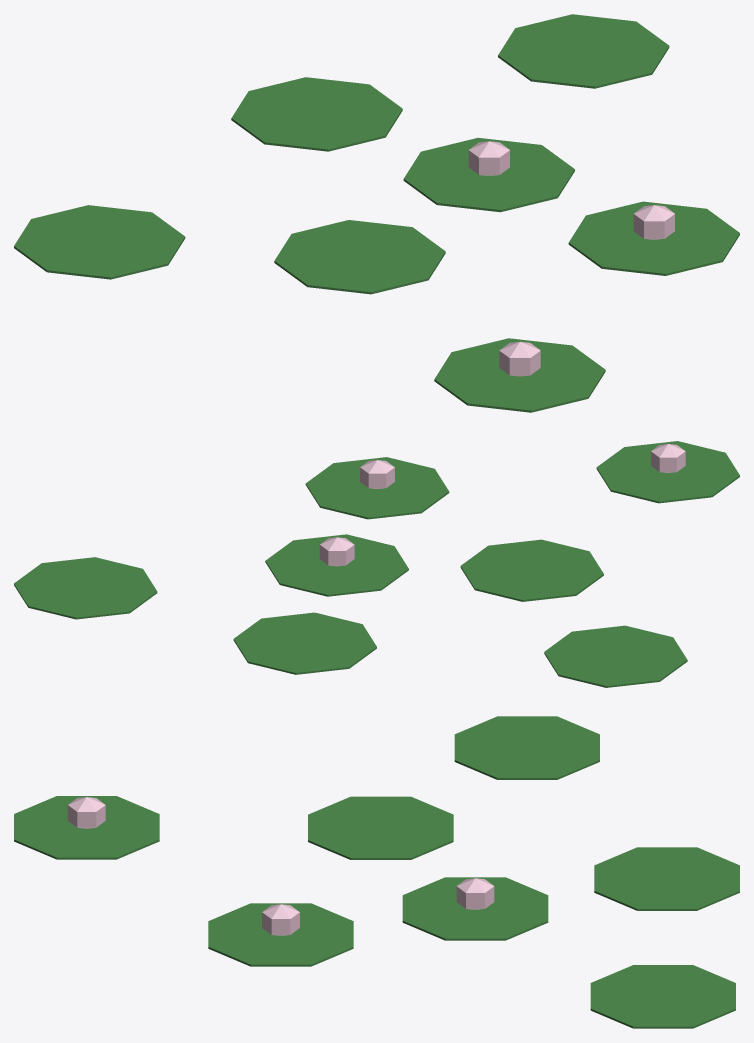
The model's file is lily_pads.glb.
3 renders of one model, top to bottom at view 1: azimuth 30°, elevation 25°; view 2: azimuth 150°, elevation 25°; view 3: azimuth 270°, elevation 25°, orthographic. The views are drawn at different scales.
Parts seen in each view (by area): view 1: lily_pads; view 2: lily_pads; view 3: lily_pads.
Boxes of the visible parts, x1,y1,x2,y2 form: lily_pads: (14,14,739,412); lily_pads: (14,441,739,687); lily_pads: (14,716,739,1028).
Bounding box in the file's own units: 1.68 × 0.08 × 1.66.
